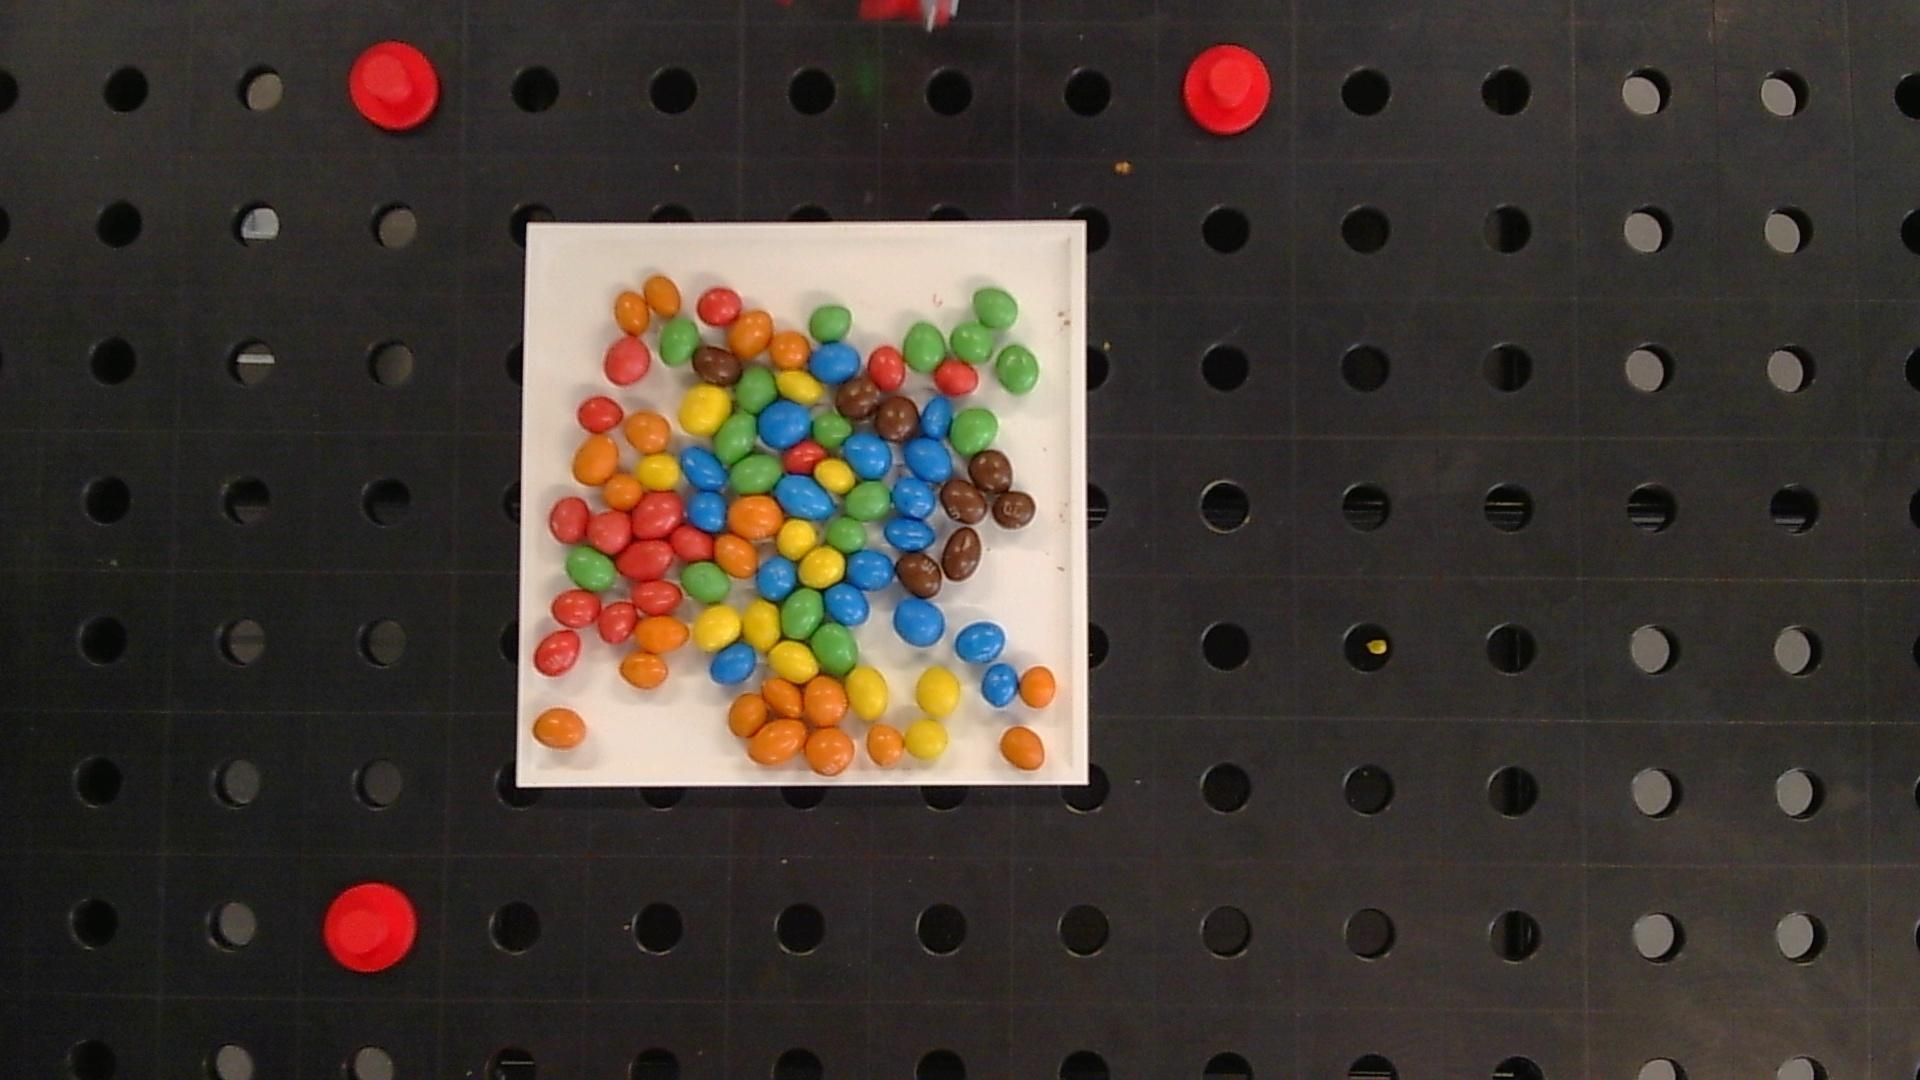blue: (774, 475, 835, 518), (760, 401, 812, 448), (894, 599, 945, 646), (905, 436, 952, 483), (845, 434, 893, 479), (955, 621, 1005, 663), (709, 642, 757, 684), (847, 550, 894, 591), (811, 344, 861, 382), (893, 476, 938, 518), (682, 448, 727, 489), (885, 517, 935, 553), (825, 584, 869, 625), (757, 556, 796, 599), (687, 489, 727, 530), (981, 665, 1019, 707), (920, 397, 952, 439)
brown: (942, 527, 982, 582), (897, 553, 942, 597), (942, 480, 986, 524), (877, 397, 919, 440), (969, 451, 1011, 495), (837, 376, 880, 418), (694, 347, 741, 384), (992, 491, 1036, 529)
green: (812, 622, 858, 674), (566, 547, 617, 591), (680, 562, 732, 604), (715, 411, 757, 463), (952, 410, 998, 456), (781, 589, 824, 638), (996, 345, 1039, 393), (903, 323, 945, 372), (731, 454, 782, 492), (973, 287, 1018, 330), (845, 481, 890, 521), (659, 320, 700, 363), (736, 368, 775, 411), (949, 323, 993, 360), (810, 306, 852, 342), (812, 413, 851, 448), (828, 518, 868, 551)
orange: (748, 719, 807, 765), (804, 728, 856, 774), (729, 496, 782, 538), (533, 708, 587, 748), (572, 436, 617, 484), (729, 310, 771, 357), (804, 678, 847, 725), (1000, 727, 1044, 770), (636, 616, 690, 651), (715, 534, 758, 576), (625, 411, 670, 451), (620, 653, 669, 688), (865, 724, 905, 766), (729, 692, 767, 736), (1019, 666, 1056, 707), (762, 678, 802, 715), (615, 291, 649, 334), (770, 331, 810, 367), (603, 473, 644, 508), (645, 276, 680, 314)
red: (632, 492, 683, 537), (604, 338, 650, 384), (618, 541, 674, 579), (534, 630, 580, 675), (549, 497, 589, 543), (551, 589, 600, 626), (588, 512, 632, 553), (696, 287, 741, 324), (597, 603, 637, 644), (578, 396, 622, 431), (632, 580, 679, 613), (868, 347, 905, 389), (935, 360, 978, 394), (670, 525, 713, 559), (783, 442, 827, 473)
yellow: (680, 386, 731, 435), (847, 666, 887, 720), (694, 605, 741, 650), (916, 667, 960, 716), (799, 547, 845, 588), (770, 642, 818, 680), (742, 600, 779, 649), (905, 720, 948, 758), (777, 520, 818, 558), (777, 371, 822, 402), (638, 454, 679, 488), (815, 459, 855, 492)
